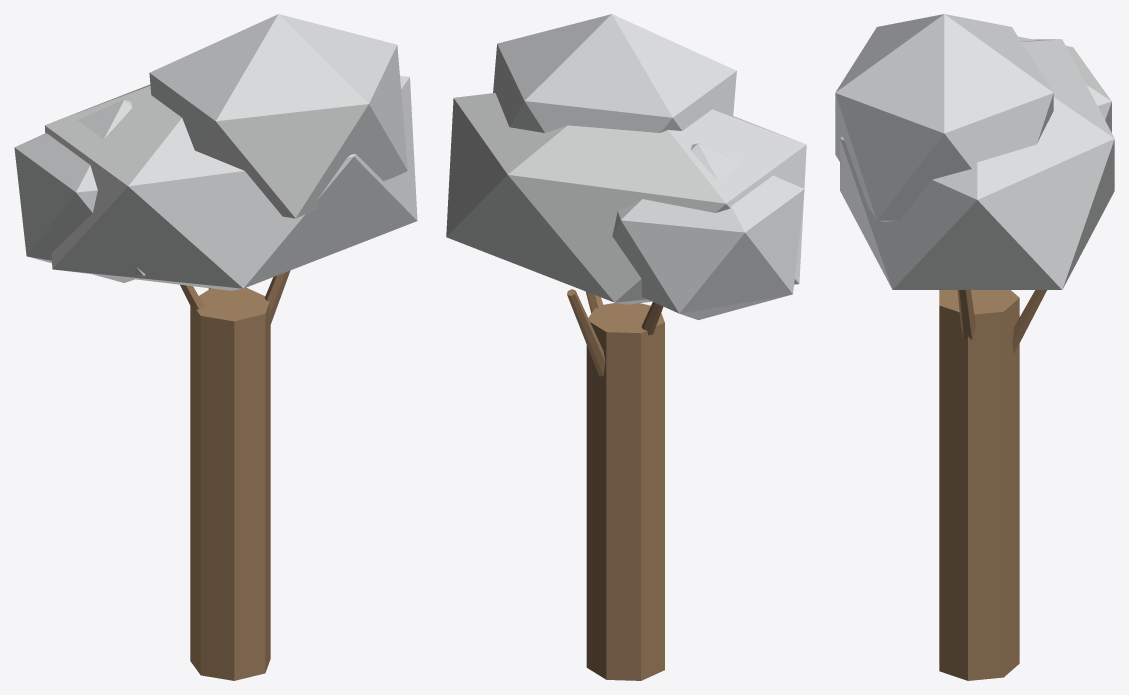
File: leaf_tree_03_snow.glb
The picture shows the model from 3 angles, left to right: view 1: azimuth 30°, elevation 25°; view 2: azimuth 150°, elevation 25°; view 3: azimuth 270°, elevation 25°; orthographic projection. The views are drawn at different scales.
Parts seen in each view (by area): view 1: leaf_tree_03_snow_canopy_1, leaf_tree_03_snow_canopy_2, leaf_tree_03_snow_trunk, leaf_tree_03_snow_canopy_3; view 2: leaf_tree_03_snow_canopy_1, leaf_tree_03_snow_trunk, leaf_tree_03_snow_canopy_2, leaf_tree_03_snow_canopy_3, leaf_tree_03_snow_branch_3; view 3: leaf_tree_03_snow_canopy_1, leaf_tree_03_snow_trunk, leaf_tree_03_snow_canopy_2, leaf_tree_03_snow_canopy_3, leaf_tree_03_snow_branch_3, leaf_tree_03_snow_branch_1.
Boxes of the visible parts, left/top/right/bottom form: leaf_tree_03_snow_canopy_1: left=45, top=75, right=417, bottom=290; leaf_tree_03_snow_canopy_2: left=149, top=14, right=407, bottom=218; leaf_tree_03_snow_trunk: left=190, top=287, right=270, bottom=680; leaf_tree_03_snow_canopy_3: left=14, top=100, right=145, bottom=282; leaf_tree_03_snow_canopy_1: left=446, top=93, right=806, bottom=304; leaf_tree_03_snow_trunk: left=586, top=303, right=664, bottom=680; leaf_tree_03_snow_canopy_2: left=493, top=14, right=736, bottom=132; leaf_tree_03_snow_canopy_3: left=612, top=143, right=804, bottom=320; leaf_tree_03_snow_branch_3: left=567, top=289, right=605, bottom=376; leaf_tree_03_snow_canopy_1: left=840, top=39, right=1114, bottom=289; leaf_tree_03_snow_trunk: left=939, top=290, right=1019, bottom=680; leaf_tree_03_snow_canopy_2: left=835, top=14, right=1053, bottom=221; leaf_tree_03_snow_canopy_3: left=1018, top=36, right=1111, bottom=132; leaf_tree_03_snow_branch_3: left=1012, top=290, right=1046, bottom=353; leaf_tree_03_snow_branch_1: left=957, top=290, right=975, bottom=339.
Bounding box in the file's own units: 2.35 × 4 × 1.52.
